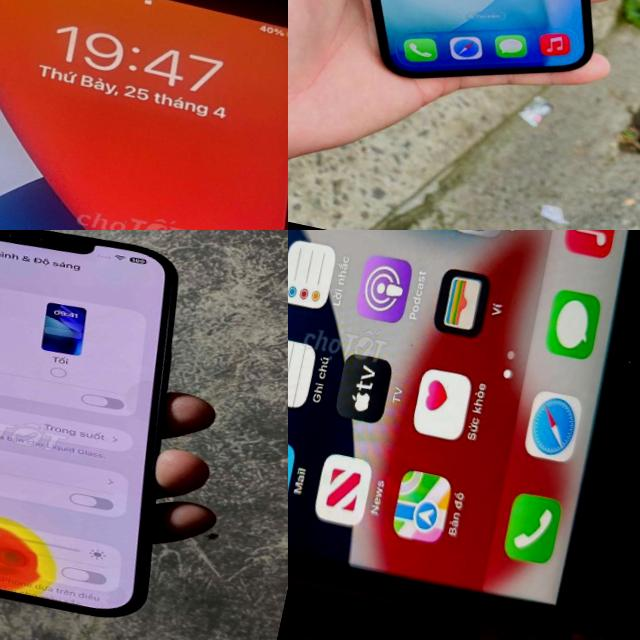gen_12_13: (0, 230, 228, 630), (288, 0, 640, 115)
gen_7_8: (288, 230, 640, 631), (0, 0, 288, 230)
screen_defect: (0, 479, 68, 612)
